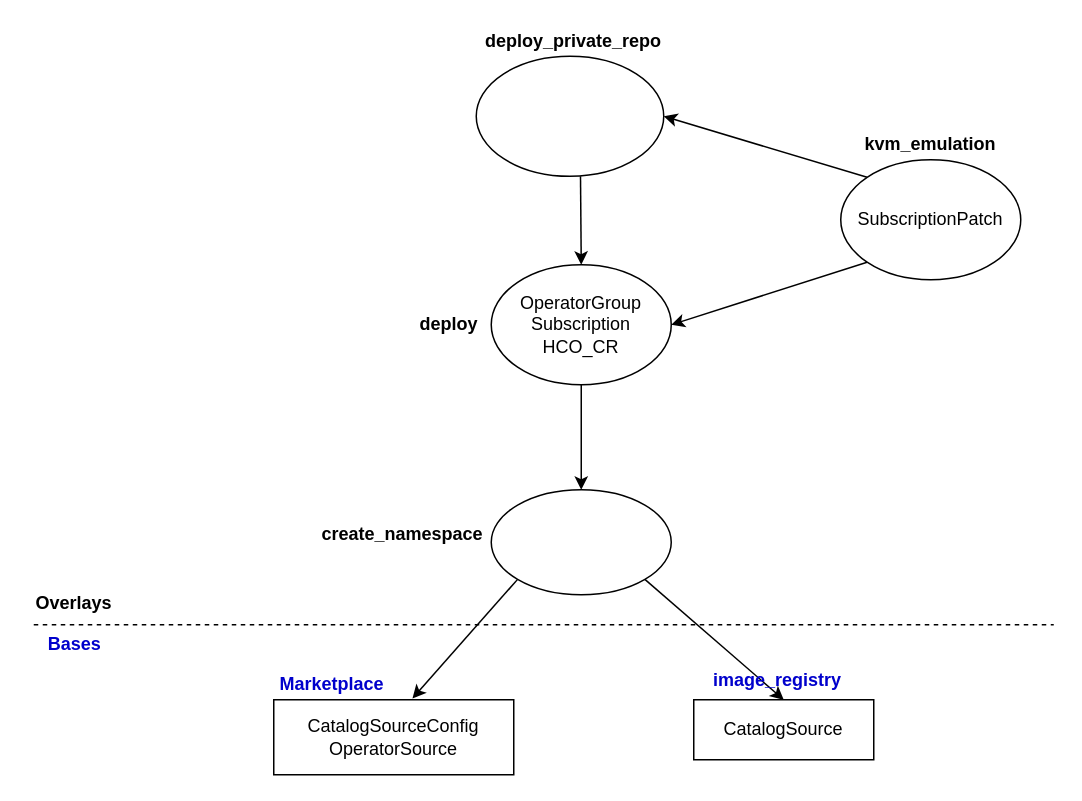
The diagram is 1082 pixels wide and 801 high, and some of its shapes have lost their labels. The shapes that lost their labels are listed below. From the top down, each one's centre as x and y in pixels, then its label:
At point (569, 115): "OperatorSourcePatch Secret".
At point (580, 541): "namespace".
